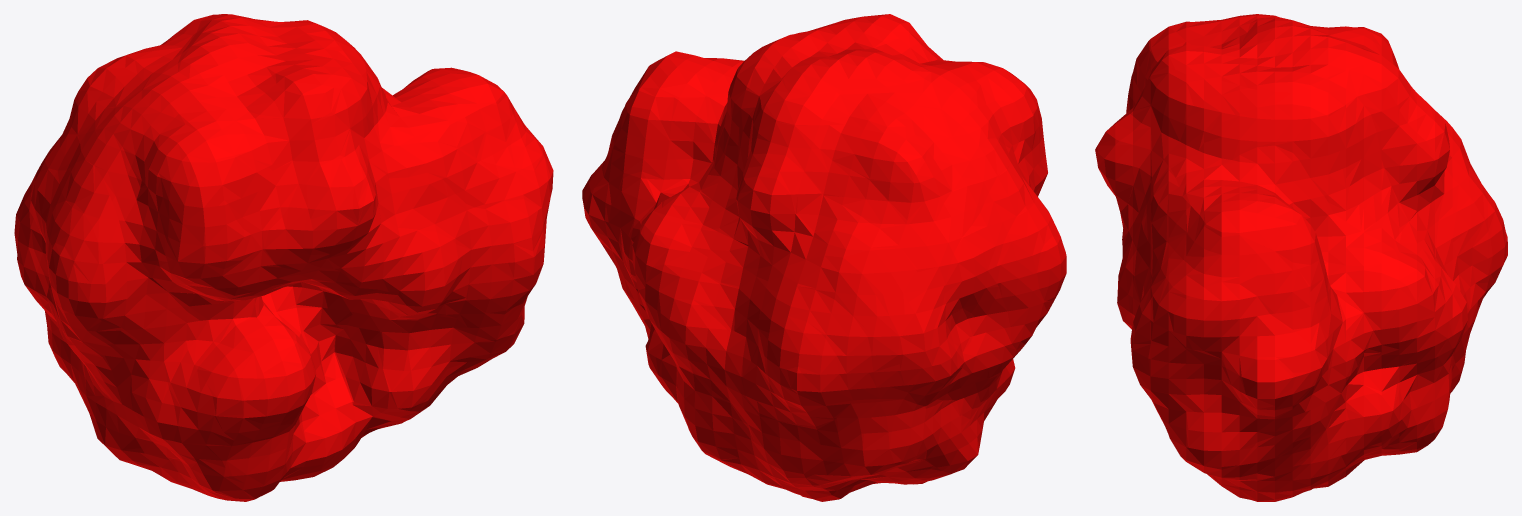
File: hemN_coarse.dae
The picture shows the model from 3 angles, left to right: view 1: azimuth 30°, elevation 25°; view 2: azimuth 150°, elevation 25°; view 3: azimuth 270°, elevation 25°; orthographic projection. The views are drawn at different scales.
Parts seen in each view (by area): view 1: hemN; view 2: hemN; view 3: hemN.
Part boxes in pixels (bbox=[...]): hemN: bbox=[14, 14, 553, 501]; hemN: bbox=[582, 14, 1066, 501]; hemN: bbox=[1095, 14, 1507, 501].
Size of the model in its own units: 69.44 by 61.73 by 52.38.
